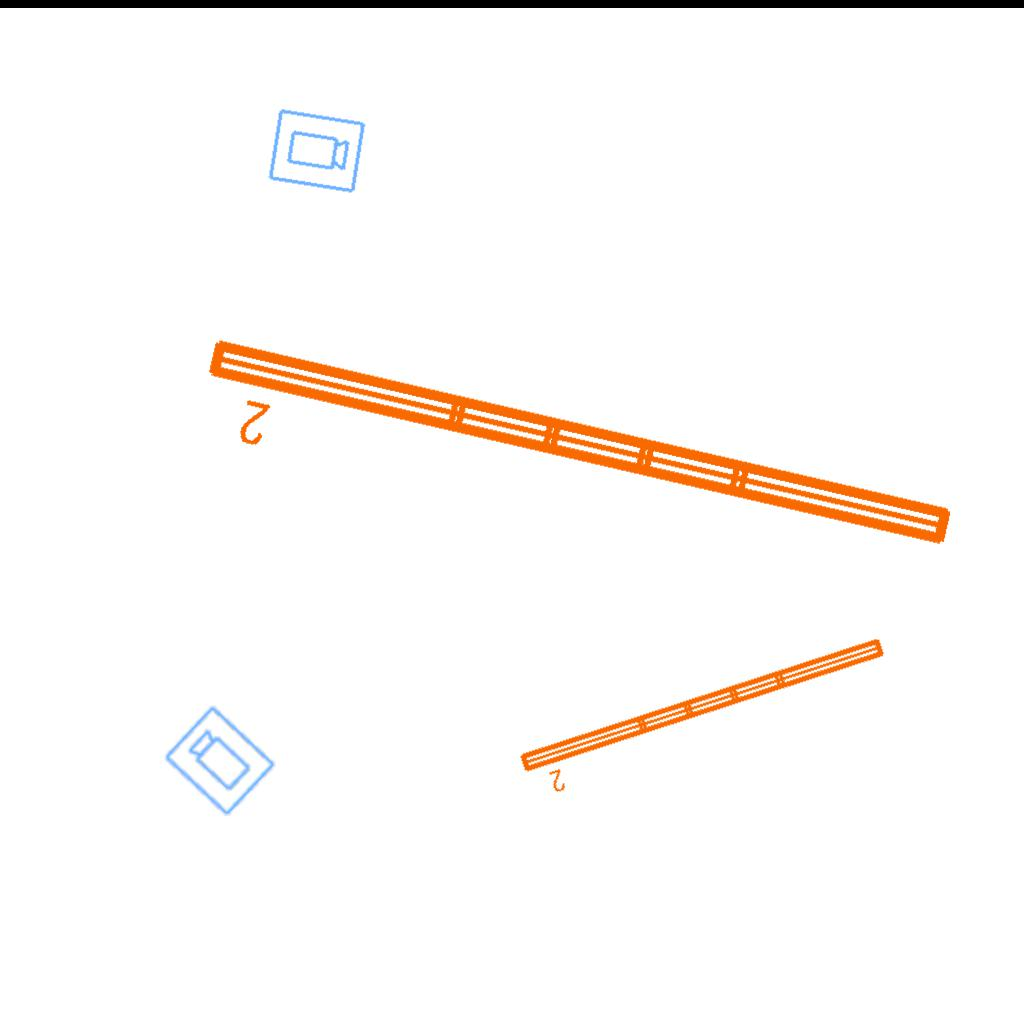Ambulanz_Pendelleuchte_LED: (185, 325, 965, 609), (513, 630, 900, 804)
KFO_Kamera_mit_Festobjektiv: (160, 701, 281, 820), (265, 106, 368, 197)
